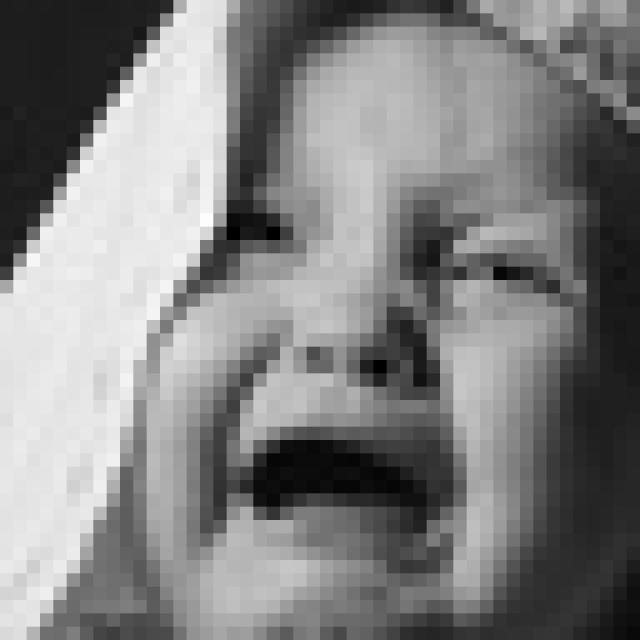sad: (183, 149, 607, 592)
